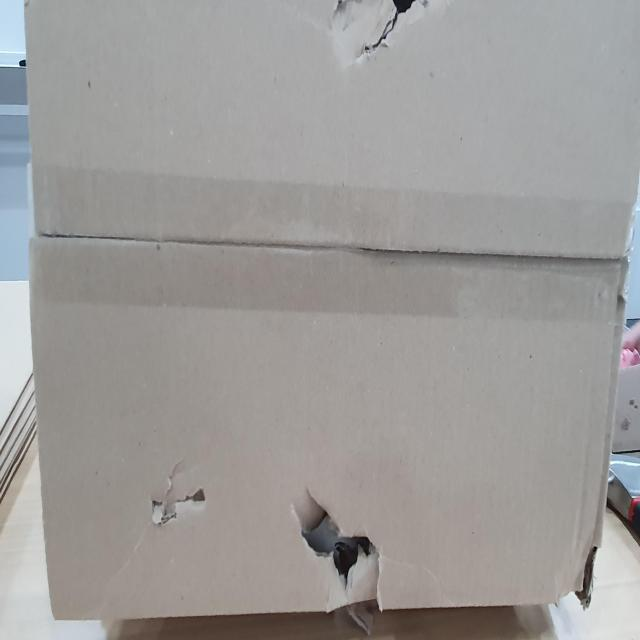damaged: (293, 481, 388, 607), (328, 1, 425, 60), (146, 461, 211, 531)
